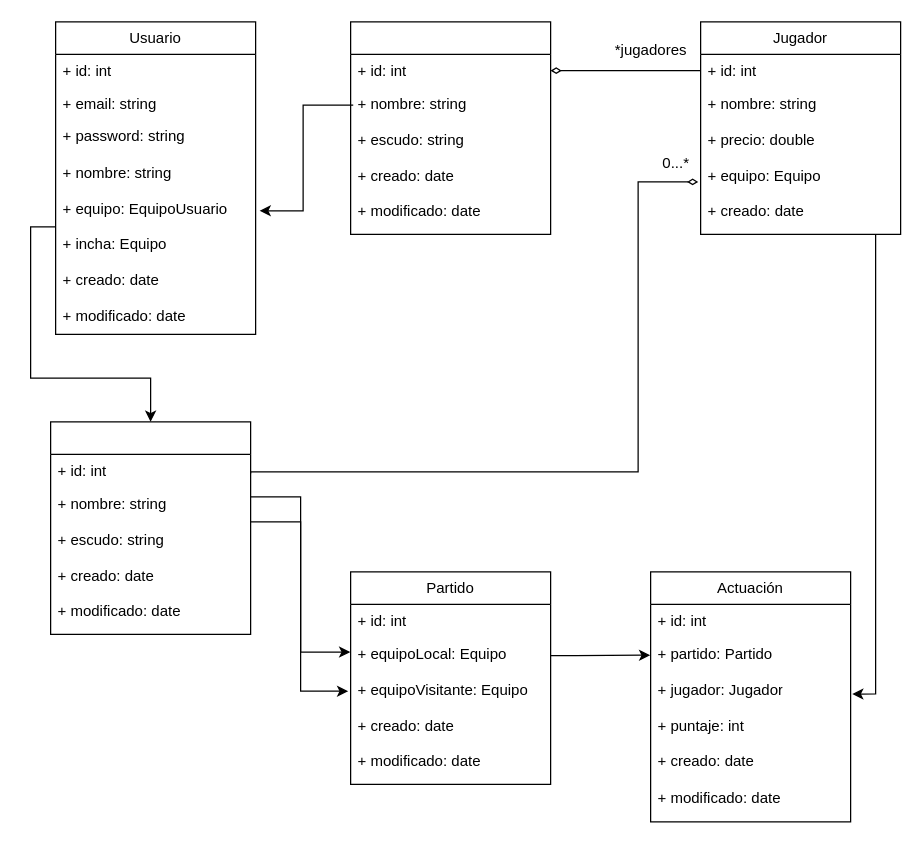
The diagram is 923 pixels wide and 848 high, and some of its shapes have lost their labels. Here are the shapes that lost their labels. From the top down, the box of each, then its label:
(349, 21, 551, 234): EquipoUsuario
(49, 421, 251, 634): Equipo
